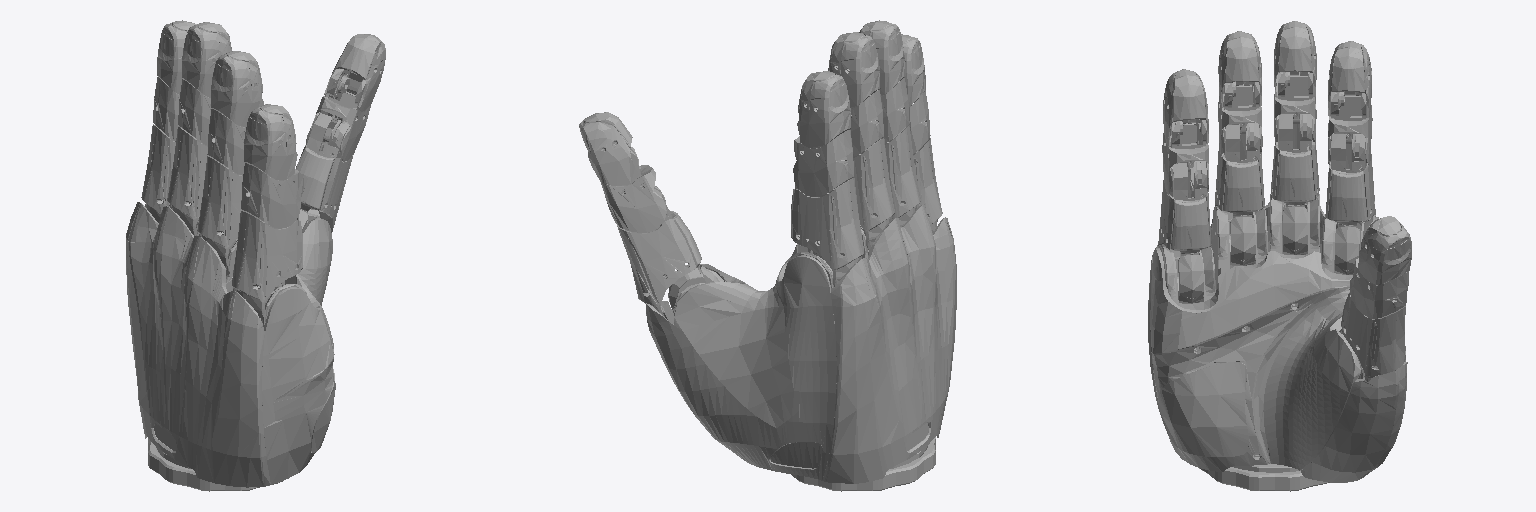
--- What the picture shows (computed from the rendered views, not written in the file) ---
Views: 3 orthographic renders of the robot side by side, from view 1: azimuth 30°, elevation 25°; view 2: azimuth 150°, elevation 25°; view 3: azimuth 270°, elevation 25°.
Model dlr_hit2 with 32 links and 31 joints (23 revolute, 3 prismatic, 5 fixed), rooted at root, posed every joint at zero.
Visible links, largest first — view 1: right_palm_link, right_pinky_proximal_link, right_thumb_proximal_link, right_ring_proximal_link, right_pinky_distal_link, right_ring_distal_link, right_pinky_medial_link, right_middle_proximal_link, right_thumb_medial_link, right_middle_distal_link, right_thumb_distal_link, right_index_proximal_link (+4 smaller); view 2: right_palm_link, right_index_proximal_link, right_thumb_proximal_link, right_index_distal_link, right_thumb_distal_link, right_middle_proximal_link, right_index_medial_link, right_thumb_medial_link, right_middle_distal_link, right_ring_proximal_link, right_ring_distal_link, right_middle_medial_link (+4 smaller); view 3: right_palm_link, right_pinky_proximal_link, right_ring_proximal_link, right_index_proximal_link, right_middle_proximal_link, right_thumb_proximal_link, right_thumb_distal_link, right_pinky_distal_link, right_index_distal_link, right_ring_distal_link, right_middle_distal_link, right_pinky_medial_link (+8 smaller).
Boxes of the visible links, x1,y1,x2,y2 form: right_palm_link: [126, 202, 335, 491]; right_pinky_proximal_link: [232, 211, 302, 320]; right_thumb_proximal_link: [296, 113, 353, 232]; right_ring_proximal_link: [197, 156, 242, 266]; right_pinky_distal_link: [244, 104, 296, 180]; right_ring_distal_link: [211, 51, 262, 127]; right_pinky_medial_link: [241, 152, 300, 228]; right_middle_proximal_link: [167, 127, 208, 235]; right_thumb_medial_link: [306, 69, 370, 161]; right_middle_distal_link: [182, 22, 231, 97]; right_thumb_distal_link: [324, 34, 385, 111]; right_index_proximal_link: [141, 124, 175, 222]; right_palm_link: [645, 204, 956, 491]; right_index_proximal_link: [791, 178, 863, 286]; right_thumb_proximal_link: [617, 184, 701, 316]; right_index_distal_link: [798, 71, 850, 148]; right_thumb_distal_link: [579, 112, 639, 185]; right_middle_proximal_link: [853, 138, 894, 249]; right_index_medial_link: [793, 121, 853, 196]; right_thumb_medial_link: [599, 147, 666, 232]; right_middle_distal_link: [828, 32, 880, 108]; right_ring_proximal_link: [885, 125, 920, 226]; right_ring_distal_link: [859, 20, 905, 95]; right_middle_medial_link: [850, 90, 883, 156]; right_palm_link: [1148, 194, 1407, 491]; right_pinky_proximal_link: [1158, 161, 1211, 257]; right_ring_proximal_link: [1215, 123, 1264, 219]; right_index_proximal_link: [1326, 133, 1375, 229]; right_middle_proximal_link: [1271, 112, 1319, 214]; right_thumb_proximal_link: [1341, 292, 1405, 381]; right_thumb_distal_link: [1358, 216, 1411, 284]; right_pinky_distal_link: [1163, 69, 1208, 146]; right_index_distal_link: [1328, 41, 1371, 117]; right_ring_distal_link: [1218, 31, 1261, 107]; right_middle_distal_link: [1274, 21, 1316, 96]; right_pinky_medial_link: [1162, 119, 1208, 194].
Size in the robot's own frame: 0.1607 by 0.1295 by 0.2366 metres.
Meshes: 5 distinct files referenced, 21 mesh visuals loaded (5 binary STL).

robot.urdf — dlr_hit2:
<?xml version="1.0" encoding="utf-8"?>
<!-- =================================================================================== -->
<!-- |    This document was autogenerated by xacro from dlr_hit_15.urdf.xacro                | -->
<!-- |    EDITING THIS FILE BY HAND IS NOT RECOMMENDED                                 | -->
<!-- =================================================================================== -->
<robot name="dlr_hit2">
  <material name="DLR/LightGrey">
    <color rgba="0.7 0.7 0.7 1.0"/>
  </material>
  <material name="DLR/DarkGrey">
    <color rgba="0.4 0.4 0.4 1.0"/>
  </material>
  <material name="DLR/Black">
    <color rgba="0.0 0.0 0.0 1.0"/>
  </material>
  <material name="DLR/DarkGolden">
    <color rgba="0.4 0.4 0.3 1.0"/>
  </material>
  <material name="DLR/Blue">
    <color rgba="0.0 0.0 0.8 1.0"/>
  </material>
  <link name="root">
    <inertial>
      <origin rpy="-0.03143 -0.00602 -0.37822" xyz="0.00100 -0.00200 0.29000"/>
      <mass value="4.00000"/>
      <inertia ixx="0.05139" ixy="0" ixz="0" iyy="0.05015" iyz="0" izz="0.04715"/>
    </inertial>
  </link>
  <link name="root1">
    <inertial>
      <mass value="0.01"/>
      <inertia ixx="1e-4" ixy="0.0" ixz="0.0" iyy="1e-4" iyz="0.0" izz="1e-4"/>
    </inertial>
  </link>
  <link name="root2">
    <inertial>
      <mass value="0.01"/>
      <inertia ixx="1e-4" ixy="0.0" ixz="0.0" iyy="1e-4" iyz="0.0" izz="1e-4"/>
    </inertial>
  </link>
  <link name="root3">
    <inertial>
      <mass value="0.01"/>
      <inertia ixx="1e-4" ixy="0.0" ixz="0.0" iyy="1e-4" iyz="0.0" izz="1e-4"/>
    </inertial>
  </link>
  <link name="root4">
    <inertial>
      <mass value="0.01"/>
      <inertia ixx="1e-4" ixy="0.0" ixz="0.0" iyy="1e-4" iyz="0.0" izz="1e-4"/>
    </inertial>
  </link>
  <link name="root5">
    <inertial>
      <mass value="0.01"/>
      <inertia ixx="1e-4" ixy="0.0" ixz="0.0" iyy="1e-4" iyz="0.0" izz="1e-4"/>
    </inertial>
  </link>

  <joint name="x_joint" type="prismatic">
    <parent link="root"/>
    <child link="root1"/>
    <axis xyz="1 0 0"/>
    <limit lower="-5" upper="5"/>
  </joint>
  <joint name="y_joint" type="prismatic">
    <parent link="root1"/>
    <child link="root2"/>
    <axis xyz="0 1 0"/>
    <limit lower="-5" upper="5"/>
  </joint>
  <joint name="z_joint" type="prismatic">
    <parent link="root2"/>
    <child link="root3"/>
    <axis xyz="0 0 1"/>
    <limit lower="-5" upper="5"/>
  </joint>
  <joint name="x_rotation_joint" type="revolute">
    <parent link="root3"/>
    <child link="root4"/>
    <axis xyz="1 0 0"/>
    <limit lower="-3.14" upper="3.14"/>
  </joint>
  <joint name="y_rotation_joint" type="revolute">
    <parent link="root4"/>
    <child link="root5"/>
    <axis xyz="0 1 0"/>
    <limit lower="-3.14" upper="3.14"/>
  </joint>
  <joint name="z_rotation_joint" type="revolute">
    <parent link="root5"/>
    <child link="right_palm_link"/>
    <axis xyz="0 0 1"/>
    <origin rpy="-0.00000 -0.00000 0" xyz="0 0 0"/>
    <limit lower="-3.14" upper="3.14"/>
  </joint>

  <!-- macro for the hand -->
  <!-- joint between arm_end_effector and hit2_palm_link -->
  <link name="right_palm_link">
    <!-- <inertial> -->
    <!-- PALM MASS AND INERTIA TO BE ESTIMATED!!!! -->
    <!-- <origin xyz="0 0 0" rpy="0 0 0"/>
				<mass value="1"/>
				<inertia ixx="0.01" ixy="0" ixz="0" iyy="0.01" iyz="0" izz="0.01" />
			</inertial> -->
    <!-- also check whether is ok to leave at zero the origin -->
    <visual>
      <origin rpy="0 0 0" xyz="0 0 0"/>
      <geometry>
        <mesh filename="dlr_description/meshes/hit2/palm.stl"/>
      </geometry>
      <material name="DLR/LightGrey"/>
    </visual>
    <collision>
      <origin rpy="0 0 0" xyz="0 0 0"/>
      <geometry>
        <mesh filename="dlr_description/meshes/hit2/palm.stl"/>
      </geometry>
    </collision>
  </link>
  <!-- macro for one finger -->
  <!-- abductor joint between palm_link and finger_abd_link - fake between palm and proximal -->
  <joint name="right_thumb_abd_joint" type="revolute">
    <origin rpy="0.41136 -1.08366 0.225804" xyz="0.062569057 0.044544548 0.080044647"/>
    <parent link="right_palm_link"/>
    <child link="right_thumb_abd_link"/>
    <axis xyz="0 0 1"/>
    <dynamics damping="1"/>
    <limit effort="100" lower="-0.349065850399" upper="0.349065850399" velocity="5"/>
    <!-- effort="100" velocity="5" -->
  </joint>
  <link name="right_thumb_abd_link">
    <!-- 			<inertial>
				<origin xyz="0 0 0" rpy="0 0 0"/>
				<mass value="0.0"/>
				<inertia ixx="0" ixy="0" ixz="0" iyy="0" iyz="0" izz="0" />
			</inertial> -->
    <!-- possibly add basecover.stl as both geometry and collision... -->
    <visual>
      <origin rpy="0 0 0" xyz="0 0 0"/>
      <geometry>
        <mesh filename="dlr_description/meshes/hit2/base.stl"/>
      </geometry>
      <material name="DLR/LightGrey"/>
    </visual>
  </link>
  <!-- inner joint between abd_link and proximal_link -->
  <joint name="right_thumb_inner_joint" type="revolute">
    <!-- coincident with abd_joint, rotated of 90 degrees along x -->
    <origin rpy="1.57079632679 0 0" xyz="0 0 0"/>
    <parent link="right_thumb_abd_link"/>
    <child link="right_thumb_proximal_link"/>
    <axis xyz="0 0 1"/>
    <dynamics damping="1"/>
    <limit effort="100" lower="0.0" upper="1.308996939" velocity="5"/>
    <!-- effort="100" velocity="5" -->
  </joint>
  <link name="right_thumb_proximal_link">
    <!-- <inertial>
				<origin xyz="30.164510e -1.0130813 0.50813186" rpy="0 0 0"/>
				<mass value="0.044370598"/>
				<inertia ixx="${inertia_scale * 4.5592704}" ixy="${inertia_scale * 0.90783105}" ixz="${inertia_scale * (-0.9399771)}" iyy="${inertia_scale * 49.045259}" iyz="${inertia_scale * 0.017052714}" izz="${inertia_scale * 50.524234}" />
			</inertial> -->
    <visual>
      <origin rpy="0 0 0" xyz="0 0 0"/>
      <geometry>
        <mesh filename="dlr_description/meshes/hit2/proximal.stl"/>
      </geometry>
      <material name="DLR/LightGrey"/>
    </visual>
    <!-- 			<collision>
				<origin xyz="0 0 0" rpy="0 0 0" />
				<geometry>
					<mesh filename="dlr_description/meshes/hit2/phalanx_proximal.stl"/>
				</geometry>
			</collision> -->
  </link>
  <!-- outer1 joint between proximal_link and medial_link -->
  <joint name="right_thumb_outer1_joint" type="revolute">
    <origin rpy="0 0 0" xyz="0.055 0 0"/>
    <parent link="right_thumb_proximal_link"/>
    <child link="right_thumb_medial_link"/>
    <axis xyz="0 0 1"/>
    <dynamics damping="1"/>
    <limit effort="100" lower="0.0" upper="1.308996939" velocity="5"/>
    <!-- effort="100" velocity="5" -->
  </joint>
  <link name="right_thumb_medial_link">
    <!-- <inertial>
			<origin xyz="5.7271879 -1.6164173 -1.1567914" rpy="0 0 0"/>
				<mass value="0.027110192"/>
				<inertia ixx="${inertia_scale * 2.2900229}" ixy="${inertia_scale * 0.40604622}" ixz="${inertia_scale * 0.14362094}" iyy="${inertia_scale * 4.2155489}" iyz="${inertia_scale * (-0.043115648)}" izz="${inertia_scale * 4.4292927}" />
			</inertial> -->
    <visual>
      <origin rpy="0 0 0" xyz="0 0 0"/>
      <geometry>
        <mesh filename="dlr_description/meshes/hit2/medial.stl"/>
      </geometry>
      <material name="DLR/LightGrey"/>
    </visual>
    <collision>
      <origin rpy="0 0 0" xyz="0 0 0"/>
      <geometry>
        <mesh filename="dlr_description/meshes/hit2/medial.stl"/>
      </geometry>
    </collision>
  </link>
  <!-- outer2 joint between medial_link and distal_link -->
  <joint name="right_thumb_outer2_joint" type="revolute">
    <origin rpy="0 0 -1.57079632679" xyz="0.025 0 0"/>
    <parent link="right_thumb_medial_link"/>
    <child link="right_thumb_distal_link"/>
    <axis xyz="0 0 1"/>
    <dynamics damping="1"/>
    <limit effort="100" lower="0.0" upper="1.308996939" velocity="5"/>
    <!-- effort="100" velocity="5" -->
  </joint>
  <link name="right_thumb_distal_link">
    <!-- <inertial>
			<origin xyz="-0.83348211 6.1007977 1.7728256" rpy="0 0 0"/>
				<mass value="0.018179709"/>
				<inertia ixx="${inertia_scale * 2.5867271}" ixy="${inertia_scale * 0.15840536}" ixz="${inertia_scale * (-0.00078205885)}" iyy="${inertia_scale * 0.84596248}" iyz="${inertia_scale * (-0.0048358115)}" izz="${inertia_scale * 2.5838485}" />
			</inertial> -->
    <visual>
      <origin rpy="0 0 0" xyz="0 0 0"/>
      <geometry>
        <mesh filename="dlr_description/meshes/hit2/distal.stl"/>
      </geometry>
      <material name="DLR/LightGrey"/>
    </visual>
    <collision>
      <origin rpy="0 0 0" xyz="0 0 0"/>
      <geometry>
        <mesh filename="dlr_description/meshes/hit2/distal.stl"/>
      </geometry>
    </collision>
  </link>
  <!-- macro for one finger -->
  <!-- abductor joint between palm_link and finger_abd_link - fake between palm and proximal -->
  <joint name="right_index_abd_joint" type="revolute">
    <origin rpy="3.05433 -1.57079632679 0" xyz="-0.002529881 0.036800135 0.108743545"/>
    <parent link="right_palm_link"/>
    <child link="right_index_abd_link"/>
    <axis xyz="0 0 1"/>
    <dynamics damping="1"/>
    <limit effort="100" lower="-0.349065850399" upper="0.349065850399" velocity="5"/>
    <!-- effort="100" velocity="5" -->
  </joint>
  <link name="right_index_abd_link">
    <!-- 			<inertial>
				<origin xyz="0 0 0" rpy="0 0 0"/>
				<mass value="0.0"/>
				<inertia ixx="0" ixy="0" ixz="0" iyy="0" iyz="0" izz="0" />
			</inertial> -->
    <!-- possibly add basecover.stl as both geometry and collision... -->
    <visual>
      <origin rpy="0 0 0" xyz="0 0 0"/>
      <geometry>
        <mesh filename="dlr_description/meshes/hit2/base.stl"/>
      </geometry>
      <material name="DLR/LightGrey"/>
    </visual>
  </link>
  <!-- inner joint between abd_link and proximal_link -->
  <joint name="right_index_inner_joint" type="revolute">
    <!-- coincident with abd_joint, rotated of 90 degrees along x -->
    <origin rpy="1.57079632679 0 0" xyz="0 0 0"/>
    <parent link="right_index_abd_link"/>
    <child link="right_index_proximal_link"/>
    <axis xyz="0 0 1"/>
    <dynamics damping="1"/>
    <limit effort="100" lower="0.0" upper="1.308996939" velocity="5"/>
    <!-- effort="100" velocity="5" -->
  </joint>
  <link name="right_index_proximal_link">
    <!-- <inertial>
				<origin xyz="30.164510e -1.0130813 0.50813186" rpy="0 0 0"/>
				<mass value="0.044370598"/>
				<inertia ixx="${inertia_scale * 4.5592704}" ixy="${inertia_scale * 0.90783105}" ixz="${inertia_scale * (-0.9399771)}" iyy="${inertia_scale * 49.045259}" iyz="${inertia_scale * 0.017052714}" izz="${inertia_scale * 50.524234}" />
			</inertial> -->
    <visual>
      <origin rpy="0 0 0" xyz="0 0 0"/>
      <geometry>
        <mesh filename="dlr_description/meshes/hit2/proximal.stl"/>
      </geometry>
      <material name="DLR/LightGrey"/>
    </visual>
    <!-- 			<collision>
				<origin xyz="0 0 0" rpy="0 0 0" />
				<geometry>
					<mesh filename="dlr_description/meshes/hit2/phalanx_proximal.stl"/>
				</geometry>
			</collision> -->
  </link>
  <!-- outer1 joint between proximal_link and medial_link -->
  <joint name="right_index_outer1_joint" type="revolute">
    <origin rpy="0 0 0" xyz="0.055 0 0"/>
    <parent link="right_index_proximal_link"/>
    <child link="right_index_medial_link"/>
    <axis xyz="0 0 1"/>
    <dynamics damping="1"/>
    <limit effort="100" lower="0.0" upper="1.308996939" velocity="5"/>
    <!-- effort="100" velocity="5" -->
  </joint>
  <link name="right_index_medial_link">
    <!-- <inertial>
			<origin xyz="5.7271879 -1.6164173 -1.1567914" rpy="0 0 0"/>
				<mass value="0.027110192"/>
				<inertia ixx="${inertia_scale * 2.2900229}" ixy="${inertia_scale * 0.40604622}" ixz="${inertia_scale * 0.14362094}" iyy="${inertia_scale * 4.2155489}" iyz="${inertia_scale * (-0.043115648)}" izz="${inertia_scale * 4.4292927}" />
			</inertial> -->
    <visual>
      <origin rpy="0 0 0" xyz="0 0 0"/>
      <geometry>
        <mesh filename="dlr_description/meshes/hit2/medial.stl"/>
      </geometry>
      <material name="DLR/LightGrey"/>
    </visual>
    <collision>
      <origin rpy="0 0 0" xyz="0 0 0"/>
      <geometry>
        <mesh filename="dlr_description/meshes/hit2/medial.stl"/>
      </geometry>
    </collision>
  </link>
  <!-- outer2 joint between medial_link and distal_link -->
  <joint name="right_index_outer2_joint" type="revolute">
    <origin rpy="0 0 -1.57079632679" xyz="0.025 0 0"/>
    <parent link="right_index_medial_link"/>
    <child link="right_index_distal_link"/>
    <axis xyz="0 0 1"/>
    <dynamics damping="1"/>
    <limit effort="100" lower="0.0" upper="1.308996939" velocity="5"/>
    <!-- effort="100" velocity="5" -->
  </joint>
  <link name="right_index_distal_link">
    <!-- <inertial>
			<origin xyz="-0.83348211 6.1007977 1.7728256" rpy="0 0 0"/>
				<mass value="0.018179709"/>
				<inertia ixx="${inertia_scale * 2.5867271}" ixy="${inertia_scale * 0.15840536}" ixz="${inertia_scale * (-0.00078205885)}" iyy="${inertia_scale * 0.84596248}" iyz="${inertia_scale * (-0.0048358115)}" izz="${inertia_scale * 2.5838485}" />
			</inertial> -->
    <visual>
      <origin rpy="0 0 0" xyz="0 0 0"/>
      <geometry>
        <mesh filename="dlr_description/meshes/hit2/distal.stl"/>
      </geometry>
      <material name="DLR/LightGrey"/>
    </visual>
    <collision>
      <origin rpy="0 0 0" xyz="0 0 0"/>
      <geometry>
        <mesh filename="dlr_description/meshes/hit2/distal.stl"/>
      </geometry>
    </collision>
  </link>
  <!-- macro for one finger -->
  <!-- abductor joint between palm_link and finger_abd_link - fake between palm and proximal -->
  <joint name="right_middle_abd_joint" type="revolute">
    <origin rpy="3.14159265359 -1.57079632679 0" xyz="-0.0037 0.01 0.119043545"/>
    <parent link="right_palm_link"/>
    <child link="right_middle_abd_link"/>
    <axis xyz="0 0 1"/>
    <dynamics damping="1"/>
    <limit effort="100" lower="-0.349065850399" upper="0.349065850399" velocity="5"/>
    <!-- effort="100" velocity="5" -->
  </joint>
  <link name="right_middle_abd_link">
    <!-- 			<inertial>
				<origin xyz="0 0 0" rpy="0 0 0"/>
				<mass value="0.0"/>
				<inertia ixx="0" ixy="0" ixz="0" iyy="0" iyz="0" izz="0" />
			</inertial> -->
    <!-- possibly add basecover.stl as both geometry and collision... -->
    <visual>
      <origin rpy="0 0 0" xyz="0 0 0"/>
      <geometry>
        <mesh filename="dlr_description/meshes/hit2/base.stl"/>
      </geometry>
      <material name="DLR/LightGrey"/>
    </visual>
  </link>
  <!-- inner joint between abd_link and proximal_link -->
  <joint name="right_middle_inner_joint" type="revolute">
    <!-- coincident with abd_joint, rotated of 90 degrees along x -->
    <origin rpy="1.57079632679 0 0" xyz="0 0 0"/>
    <parent link="right_middle_abd_link"/>
    <child link="right_middle_proximal_link"/>
    <axis xyz="0 0 1"/>
    <dynamics damping="1"/>
    <limit effort="100" lower="0.0" upper="1.308996939" velocity="5"/>
    <!-- effort="100" velocity="5" -->
  </joint>
  <link name="right_middle_proximal_link">
    <!-- <inertial>
				<origin xyz="30.164510e -1.0130813 0.50813186" rpy="0 0 0"/>
				<mass value="0.044370598"/>
				<inertia ixx="${inertia_scale * 4.5592704}" ixy="${inertia_scale * 0.90783105}" ixz="${inertia_scale * (-0.9399771)}" iyy="${inertia_scale * 49.045259}" iyz="${inertia_scale * 0.017052714}" izz="${inertia_scale * 50.524234}" />
			</inertial> -->
    <visual>
      <origin rpy="0 0 0" xyz="0 0 0"/>
      <geometry>
        <mesh filename="dlr_description/meshes/hit2/proximal.stl"/>
      </geometry>
      <material name="DLR/LightGrey"/>
    </visual>
    <!-- 			<collision>
				<origin xyz="0 0 0" rpy="0 0 0" />
				<geometry>
					<mesh filename="dlr_description/meshes/hit2/phalanx_proximal.stl"/>
				</geometry>
			</collision> -->
  </link>
  <!-- outer1 joint between proximal_link and medial_link -->
  <joint name="right_middle_outer1_joint" type="revolute">
    <origin rpy="0 0 0" xyz="0.055 0 0"/>
    <parent link="right_middle_proximal_link"/>
    <child link="right_middle_medial_link"/>
    <axis xyz="0 0 1"/>
    <dynamics damping="1"/>
    <limit effort="100" lower="0.0" upper="1.308996939" velocity="5"/>
    <!-- effort="100" velocity="5" -->
  </joint>
  <link name="right_middle_medial_link">
    <!-- <inertial>
			<origin xyz="5.7271879 -1.6164173 -1.1567914" rpy="0 0 0"/>
				<mass value="0.027110192"/>
				<inertia ixx="${inertia_scale * 2.2900229}" ixy="${inertia_scale * 0.40604622}" ixz="${inertia_scale * 0.14362094}" iyy="${inertia_scale * 4.2155489}" iyz="${inertia_scale * (-0.043115648)}" izz="${inertia_scale * 4.4292927}" />
			</inertial> -->
    <visual>
      <origin rpy="0 0 0" xyz="0 0 0"/>
      <geometry>
        <mesh filename="dlr_description/meshes/hit2/medial.stl"/>
      </geometry>
      <material name="DLR/LightGrey"/>
    </visual>
    <collision>
      <origin rpy="0 0 0" xyz="0 0 0"/>
      <geometry>
        <mesh filename="dlr_description/meshes/hit2/medial.stl"/>
      </geometry>
    </collision>
  </link>
  <!-- outer2 joint between medial_link and distal_link -->
  <joint name="right_middle_outer2_joint" type="revolute">
    <origin rpy="0 0 -1.57079632679" xyz="0.025 0 0"/>
    <parent link="right_middle_medial_link"/>
    <child link="right_middle_distal_link"/>
    <axis xyz="0 0 1"/>
    <dynamics damping="1"/>
    <limit effort="100" lower="0.0" upper="1.308996939" velocity="5"/>
    <!-- effort="100" velocity="5" -->
  </joint>
  <link name="right_middle_distal_link">
    <!-- <inertial>
			<origin xyz="-0.83348211 6.1007977 1.7728256" rpy="0 0 0"/>
				<mass value="0.018179709"/>
				<inertia ixx="${inertia_scale * 2.5867271}" ixy="${inertia_scale * 0.15840536}" ixz="${inertia_scale * (-0.00078205885)}" iyy="${inertia_scale * 0.84596248}" iyz="${inertia_scale * (-0.0048358115)}" izz="${inertia_scale * 2.5838485}" />
			</inertial> -->
    <visual>
      <origin rpy="0 0 0" xyz="0 0 0"/>
      <geometry>
        <mesh filename="dlr_description/meshes/hit2/distal.stl"/>
      </geometry>
      <material name="DLR/LightGrey"/>
    </visual>
    <collision>
      <origin rpy="0 0 0" xyz="0 0 0"/>
      <geometry>
        <mesh filename="dlr_description/meshes/hit2/distal.stl"/>
      </geometry>
    </collision>
  </link>
  <!-- macro for one finger -->
  <!-- abductor joint between palm_link and finger_abd_link - fake between palm and proximal -->
  <joint name="right_ring_abd_joint" type="revolute">
    <origin rpy="-3.05433 -1.57079632679 0" xyz="-0.002529881 -0.016800135 0.114043545"/>
    <parent link="right_palm_link"/>
    <child link="right_ring_abd_link"/>
    <axis xyz="0 0 1"/>
    <dynamics damping="1"/>
    <limit effort="100" lower="-0.349065850399" upper="0.349065850399" velocity="5"/>
    <!-- effort="100" velocity="5" -->
  </joint>
  <link name="right_ring_abd_link">
    <!-- 			<inertial>
				<origin xyz="0 0 0" rpy="0 0 0"/>
				<mass value="0.0"/>
				<inertia ixx="0" ixy="0" ixz="0" iyy="0" iyz="0" izz="0" />
			</inertial> -->
    <!-- possibly add basecover.stl as both geometry and collision... -->
    <visual>
      <origin rpy="0 0 0" xyz="0 0 0"/>
      <geometry>
        <mesh filename="dlr_description/meshes/hit2/base.stl"/>
      </geometry>
      <material name="DLR/LightGrey"/>
    </visual>
  </link>
  <!-- inner joint between abd_link and proximal_link -->
  <joint name="right_ring_inner_joint" type="revolute">
    <!-- coincident with abd_joint, rotated of 90 degrees along x -->
    <origin rpy="1.57079632679 0 0" xyz="0 0 0"/>
    <parent link="right_ring_abd_link"/>
    <child link="right_ring_proximal_link"/>
    <axis xyz="0 0 1"/>
    <dynamics damping="1"/>
    <limit effort="100" lower="0.0" upper="1.308996939" velocity="5"/>
    <!-- effort="100" velocity="5" -->
  </joint>
  <link name="right_ring_proximal_link">
    <!-- <inertial>
				<origin xyz="30.164510e -1.0130813 0.50813186" rpy="0 0 0"/>
				<mass value="0.044370598"/>
				<inertia ixx="${inertia_scale * 4.5592704}" ixy="${inertia_scale * 0.90783105}" ixz="${inertia_scale * (-0.9399771)}" iyy="${inertia_scale * 49.045259}" iyz="${inertia_scale * 0.017052714}" izz="${inertia_scale * 50.524234}" />
			</inertial> -->
    <visual>
      <origin rpy="0 0 0" xyz="0 0 0"/>
      <geometry>
        <mesh filename="dlr_description/meshes/hit2/proximal.stl"/>
      </geometry>
      <material name="DLR/LightGrey"/>
    </visual>
    <!-- 			<collision>
				<origin xyz="0 0 0" rpy="0 0 0" />
				<geometry>
					<mesh filename="dlr_description/meshes/hit2/phalanx_proximal.stl"/>
				</geometry>
			</collision> -->
  </link>
  <!-- outer1 joint between proximal_link and medial_link -->
  <joint name="right_ring_outer1_joint" type="revolute">
    <origin rpy="0 0 0" xyz="0.055 0 0"/>
    <parent link="right_ring_proximal_link"/>
    <child link="right_ring_medial_link"/>
    <axis xyz="0 0 1"/>
    <dynamics damping="1"/>
    <limit effort="100" lower="0.0" upper="1.308996939" velocity="5"/>
    <!-- effort="100" velocity="5" -->
  </joint>
  <link name="right_ring_medial_link">
    <!-- <inertial>
			<origin xyz="5.7271879 -1.6164173 -1.1567914" rpy="0 0 0"/>
				<mass value="0.027110192"/>
				<inertia ixx="${inertia_scale * 2.2900229}" ixy="${inertia_scale * 0.40604622}" ixz="${inertia_scale * 0.14362094}" iyy="${inertia_scale * 4.2155489}" iyz="${inertia_scale * (-0.043115648)}" izz="${inertia_scale * 4.4292927}" />
			</inertial> -->
    <visual>
      <origin rpy="0 0 0" xyz="0 0 0"/>
      <geometry>
        <mesh filename="dlr_description/meshes/hit2/medial.stl"/>
      </geometry>
      <material name="DLR/LightGrey"/>
    </visual>
    <collision>
      <origin rpy="0 0 0" xyz="0 0 0"/>
      <geometry>
        <mesh filename="dlr_description/meshes/hit2/medial.stl"/>
      </geometry>
    </collision>
  </link>
  <!-- outer2 joint between medial_link and distal_link -->
  <joint name="right_ring_outer2_joint" type="revolute">
    <origin rpy="0 0 -1.57079632679" xyz="0.025 0 0"/>
    <parent link="right_ring_medial_link"/>
    <child link="right_ring_distal_link"/>
    <axis xyz="0 0 1"/>
    <dynamics damping="1"/>
    <limit effort="100" lower="0.0" upper="1.308996939" velocity="5"/>
    <!-- effort="100" velocity="5" -->
  </joint>
  <link name="right_ring_distal_link">
    <!-- <inertial>
			<origin xyz="-0.83348211 6.1007977 1.7728256" rpy="0 0 0"/>
				<mass value="0.018179709"/>
				<inertia ixx="${inertia_scale * 2.5867271}" ixy="${inertia_scale * 0.15840536}" ixz="${inertia_scale * (-0.00078205885)}" iyy="${inertia_scale * 0.84596248}" iyz="${inertia_scale * (-0.0048358115)}" izz="${inertia_scale * 2.5838485}" />
			</inertial> -->
    <visual>
      <origin rpy="0 0 0" xyz="0 0 0"/>
      <geometry>
        <mesh filename="dlr_description/meshes/hit2/distal.stl"/>
      </geometry>
      <material name="DLR/LightGrey"/>
    </visual>
    <collision>
      <origin rpy="0 0 0" xyz="0 0 0"/>
      <geometry>
        <mesh filename="dlr_description/meshes/hit2/distal.stl"/>
      </geometry>
    </collision>
  </link>
  <!-- macro for one finger -->
  <!-- abductor joint between palm_link and finger_abd_link - fake between palm and proximal -->
  <joint name="right_pinky_abd_joint" type="revolute">
    <origin rpy="-2.96706 -1.57079632679 0" xyz="0.000971571 -0.043396306 0.095043545"/>
    <parent link="right_palm_link"/>
    <child link="right_pinky_abd_link"/>
    <axis xyz="0 0 1"/>
    <dynamics damping="1"/>
    <limit effort="100" lower="-0.349065850399" upper="0.349065850399" velocity="5"/>
    <!-- effort="100" velocity="5" -->
  </joint>
  <link name="right_pinky_abd_link">
    <!-- 			<inertial>
				<origin xyz="0 0 0" rpy="0 0 0"/>
				<mass value="0.0"/>
				<inertia ixx="0" ixy="0" ixz="0" iyy="0" iyz="0" izz="0" />
			</inertial> -->
    <!-- possibly add basecover.stl as both geometry and collision... -->
    <visual>
      <origin rpy="0 0 0" xyz="0 0 0"/>
      <geometry>
        <mesh filename="dlr_description/meshes/hit2/base.stl"/>
      </geometry>
      <material name="DLR/LightGrey"/>
    </visual>
  </link>
  <!-- inner joint between abd_link and proximal_link -->
  <joint name="right_pinky_inner_joint" type="revolute">
    <!-- coincident with abd_joint, rotated of 90 degrees along x -->
    <origin rpy="1.57079632679 0 0" xyz="0 0 0"/>
    <parent link="right_pinky_abd_link"/>
    <child link="right_pinky_proximal_link"/>
    <axis xyz="0 0 1"/>
    <dynamics damping="1"/>
    <limit effort="100" lower="0.0" upper="1.308996939" velocity="5"/>
    <!-- effort="100" velocity="5" -->
  </joint>
  <link name="right_pinky_proximal_link">
    <!-- <inertial>
				<origin xyz="30.164510e -1.0130813 0.50813186" rpy="0 0 0"/>
				<mass value="0.044370598"/>
				<inertia ixx="${inertia_scale * 4.5592704}" ixy="${inertia_scale * 0.90783105}" ixz="${inertia_scale * (-0.9399771)}" iyy="${inertia_scale * 49.045259}" iyz="${inertia_scale * 0.017052714}" izz="${inertia_scale * 50.524234}" />
			</inertial> -->
    <visual>
      <origin rpy="0 0 0" xyz="0 0 0"/>
      <geometry>
        <mesh filename="dlr_description/meshes/hit2/proximal.stl"/>
      </geometry>
      <material name="DLR/LightGrey"/>
    </visual>
    <!-- 			<collision>
				<origin xyz="0 0 0" rpy="0 0 0" />
				<geometry>
					<mesh filename="dlr_description/meshes/hit2/phalanx_proximal.stl"/>
				</geometry>
			</collision> -->
  </link>
  <!-- outer1 joint between proximal_link and medial_link -->
  <joint name="right_pinky_outer1_joint" type="revolute">
    <origin rpy="0 0 0" xyz="0.055 0 0"/>
    <parent link="right_pinky_proximal_link"/>
    <child link="right_pinky_medial_link"/>
    <axis xyz="0 0 1"/>
    <dynamics damping="1"/>
    <limit effort="100" lower="0.0" upper="1.308996939" velocity="5"/>
    <!-- effort="100" velocity="5" -->
  </joint>
  <link name="right_pinky_medial_link">
    <!-- <inertial>
			<origin xyz="5.7271879 -1.6164173 -1.1567914" rpy="0 0 0"/>
				<mass value="0.027110192"/>
				<inertia ixx="${inertia_scale * 2.2900229}" ixy="${inertia_scale * 0.40604622}" ixz="${inertia_scale * 0.14362094}" iyy="${inertia_scale * 4.2155489}" iyz="${inertia_scale * (-0.043115648)}" izz="${inertia_scale * 4.4292927}" />
			</inertial> -->
    <visual>
      <origin rpy="0 0 0" xyz="0 0 0"/>
      <geometry>
        <mesh filename="dlr_description/meshes/hit2/medial.stl"/>
      </geometry>
      <material name="DLR/LightGrey"/>
    </visual>
    <collision>
      <origin rpy="0 0 0" xyz="0 0 0"/>
      <geometry>
        <mesh filename="dlr_description/meshes/hit2/medial.stl"/>
      </geometry>
    </collision>
  </link>
  <!-- outer2 joint between medial_link and distal_link -->
  <joint name="right_pinky_outer2_joint" type="revolute">
    <origin rpy="0 0 -1.57079632679" xyz="0.025 0 0"/>
    <parent link="right_pinky_medial_link"/>
    <child link="right_pinky_distal_link"/>
    <axis xyz="0 0 1"/>
    <dynamics damping="1"/>
    <limit effort="100" lower="0.0" upper="1.308996939" velocity="5"/>
    <!-- effort="100" velocity="5" -->
  </joint>
  <link name="right_pinky_distal_link">
    <!-- <inertial>
			<origin xyz="-0.83348211 6.1007977 1.7728256" rpy="0 0 0"/>
				<mass value="0.018179709"/>
				<inertia ixx="${inertia_scale * 2.5867271}" ixy="${inertia_scale * 0.15840536}" ixz="${inertia_scale * (-0.00078205885)}" iyy="${inertia_scale * 0.84596248}" iyz="${inertia_scale * (-0.0048358115)}" izz="${inertia_scale * 2.5838485}" />
			</inertial> -->
    <visual>
      <origin rpy="0 0 0" xyz="0 0 0"/>
      <geometry>
        <mesh filename="dlr_description/meshes/hit2/distal.stl"/>
      </geometry>
      <material name="DLR/LightGrey"/>
    </visual>
    <collision>
      <origin rpy="0 0 0" xyz="0 0 0"/>
      <geometry>
        <mesh filename="dlr_description/meshes/hit2/distal.stl"/>
      </geometry>
    </collision>
  </link>
  <!--Tips-->
  <link name="thtip">
  </link>
  <link name="fftip">
  </link>
  <link name="mftip">
  </link>
  <link name="rftip">
  </link>
  <link name="lftip">
  </link>
  <joint name="thtip_joint" type="fixed">
    <parent link="right_thumb_distal_link"/>
    <child link="thtip"/>
    <origin rpy="0.00000 -0.00000 0.00000" xyz="0.00000 0.0345 0"/>
  </joint>
  <joint name="fftip_joint" type="fixed">
    <parent link="right_index_distal_link"/>
    <child link="fftip"/>
    <origin rpy="0.00000 -0.00000 0.00000" xyz="0.00000 0.0345 0"/>
  </joint>
  <joint name="mftip_joint" type="fixed">
    <parent link="right_middle_distal_link"/>
    <child link="mftip"/>
    <origin rpy="0.00000 -0.00000 0.00000" xyz="0.00000 0.0345 0"/>
  </joint>
  <joint name="rftip_joint" type="fixed">
    <parent link="right_ring_distal_link"/>
    <child link="rftip"/>
    <origin rpy="0.00000 -0.00000 0.00000" xyz="0.00000 0.0345 0"/>
  </joint>
  <joint name="lftip_joint" type="fixed">
    <parent link="right_pinky_distal_link"/>
    <child link="lftip"/>
    <origin rpy="0.00000 -0.00000 0.00000" xyz="0.00000 0.0345 0"/>
  </joint>
</robot>
